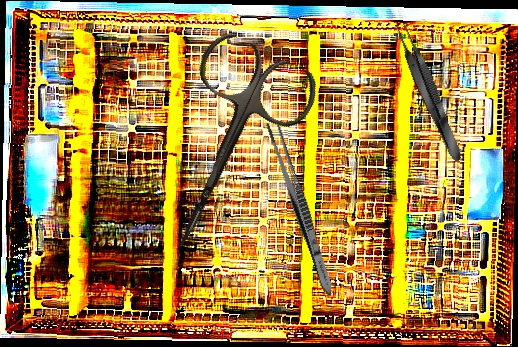Dressing Forceps: (262, 118, 339, 298)
Iris Scissors: (123, 27, 327, 272)
Tissue Forceps: (390, 20, 468, 166)
